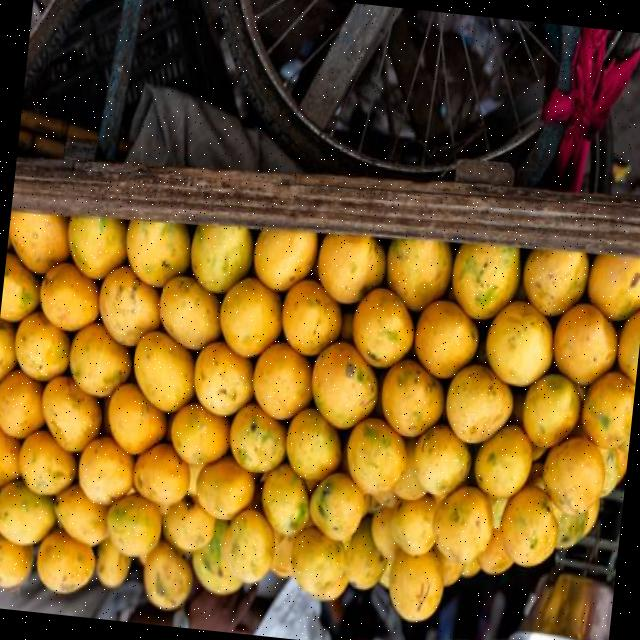mango: (310, 341, 376, 428), (486, 301, 552, 384), (445, 363, 512, 442), (552, 302, 616, 382), (451, 242, 519, 316), (413, 299, 477, 376), (541, 436, 604, 514), (98, 265, 159, 345), (498, 484, 557, 566), (431, 484, 492, 563), (133, 331, 193, 411), (380, 359, 443, 435), (386, 237, 451, 310), (352, 287, 412, 366), (219, 277, 281, 353), (40, 375, 101, 452), (316, 232, 384, 301), (158, 275, 221, 348), (252, 342, 311, 419), (281, 279, 341, 354), (346, 416, 405, 492), (522, 248, 588, 315), (70, 321, 131, 393), (412, 423, 470, 498), (126, 218, 189, 286), (189, 224, 251, 292), (106, 382, 165, 453), (580, 371, 635, 447), (290, 526, 347, 599), (194, 341, 250, 415), (474, 423, 530, 496), (286, 407, 341, 480), (39, 261, 98, 329), (228, 403, 286, 472), (35, 528, 95, 593), (77, 435, 133, 504), (308, 471, 364, 540), (14, 311, 69, 381), (66, 214, 126, 278), (254, 228, 316, 289), (7, 210, 68, 272), (195, 455, 254, 519), (387, 548, 440, 619), (191, 519, 241, 594), (169, 403, 229, 465), (18, 430, 76, 494), (222, 508, 273, 580), (587, 254, 640, 320), (261, 462, 308, 535), (132, 443, 188, 504), (0, 480, 53, 544), (142, 539, 191, 608), (105, 493, 160, 554), (54, 483, 106, 544), (0, 369, 43, 437), (344, 517, 385, 588), (390, 493, 435, 555), (0, 251, 39, 320), (167, 496, 214, 550), (392, 436, 425, 499), (616, 309, 640, 384), (0, 534, 33, 587), (95, 537, 129, 586), (370, 506, 398, 561), (0, 425, 19, 485), (269, 530, 292, 576)
